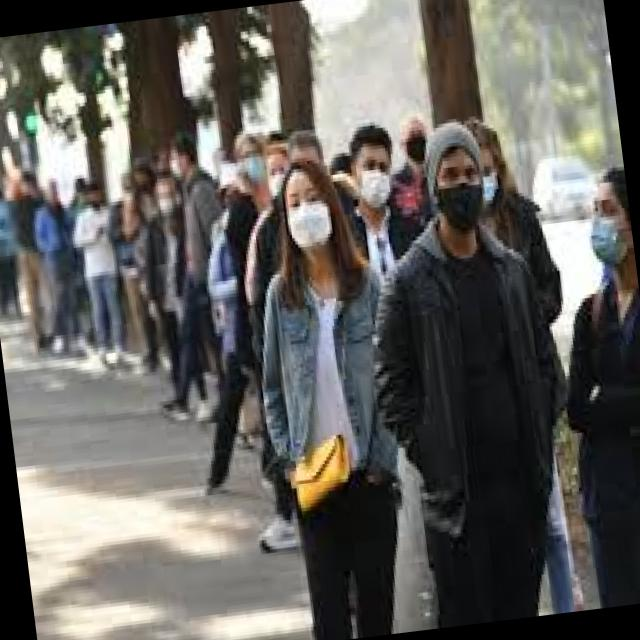Jacket: (356, 199, 588, 552), (250, 248, 414, 522), (546, 261, 640, 578), (127, 202, 195, 344), (169, 168, 236, 298)
